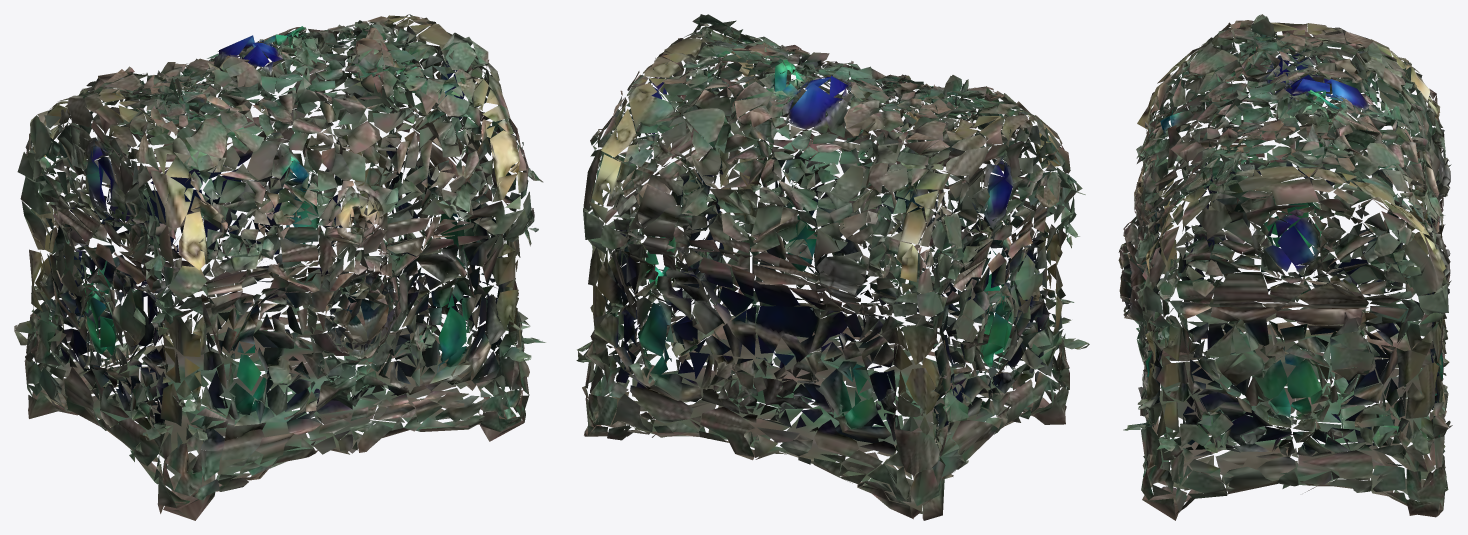
Rendered from chest.glb.
3 views of the same model, side by side, from view 1: azimuth 30°, elevation 25°; view 2: azimuth 150°, elevation 25°; view 3: azimuth 270°, elevation 25° (orthographic). The views are drawn at different scales.
Visible parts, largest first — view 1: Mesh_0.001; view 2: Mesh_0.001; view 3: Mesh_0.001.
Part boxes in pixels (x1,y1,x2,y2): Mesh_0.001: (14, 14, 545, 520); Mesh_0.001: (576, 14, 1089, 520); Mesh_0.001: (1118, 14, 1452, 520).
Size of the model in its own units: 1.89 by 1.74 by 1.44.
Materials: 1 (1 with a texture image).
